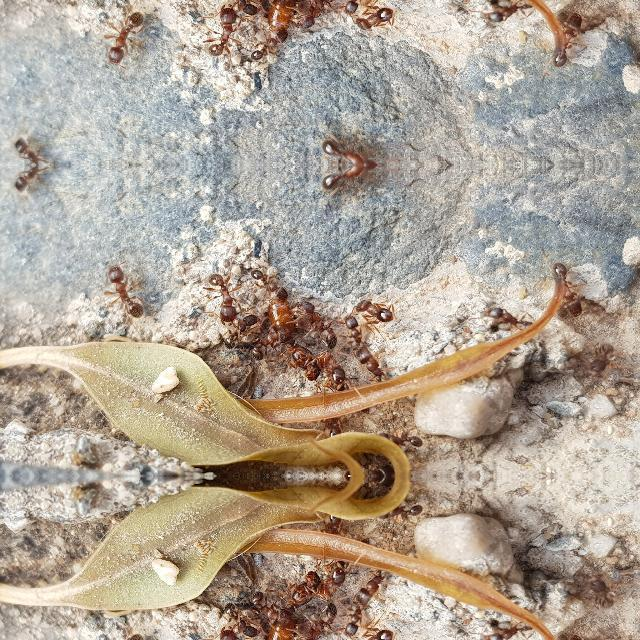Tetramorium: (100, 256, 162, 336), (100, 0, 162, 70), (268, 301, 324, 377), (268, 572, 322, 640), (313, 164, 383, 208), (313, 120, 383, 164), (542, 5, 586, 74), (542, 254, 586, 322), (349, 560, 399, 614), (349, 336, 399, 389), (332, 309, 378, 361), (7, 164, 59, 208), (7, 120, 59, 164), (332, 588, 376, 640), (303, 291, 342, 347), (208, 265, 242, 327), (208, 1, 242, 63), (354, 288, 406, 328), (354, 1, 406, 40), (472, 298, 534, 330), (250, 320, 294, 364), (250, 586, 294, 630), (472, 0, 532, 30), (583, 339, 621, 385), (583, 565, 621, 611), (100, 614, 162, 640), (302, 602, 341, 640), (267, 0, 322, 26), (314, 350, 356, 384), (314, 566, 356, 600), (301, 0, 340, 36), (377, 430, 427, 456), (377, 494, 427, 520), (224, 310, 256, 350), (224, 600, 256, 640), (248, 266, 286, 298), (248, 30, 286, 62), (472, 620, 532, 640), (313, 409, 349, 441), (313, 509, 349, 541), (354, 622, 406, 640), (331, 0, 376, 18), (208, 622, 240, 640), (222, 0, 255, 16)
